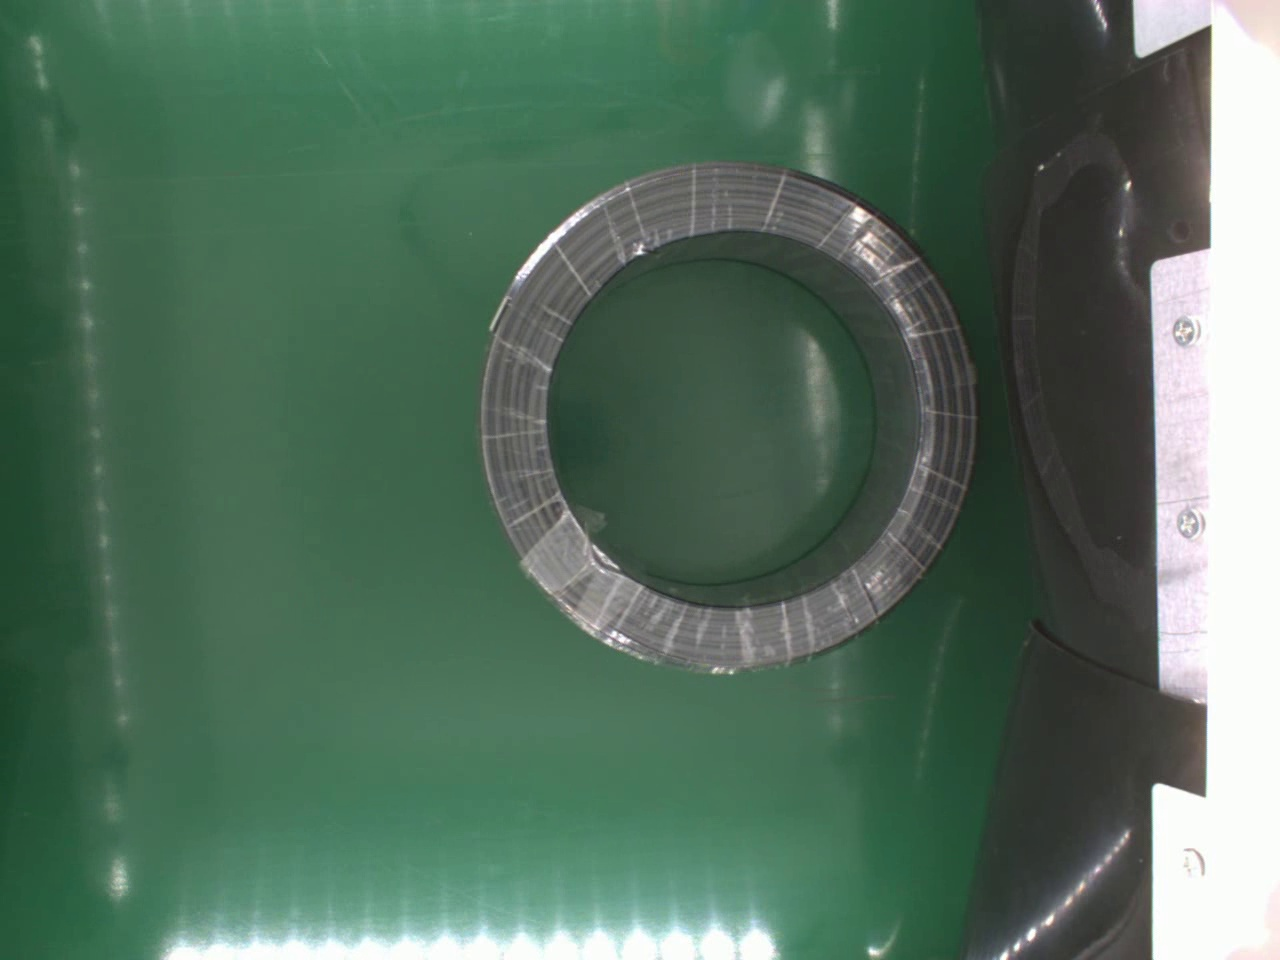black: (461, 146, 987, 680)
